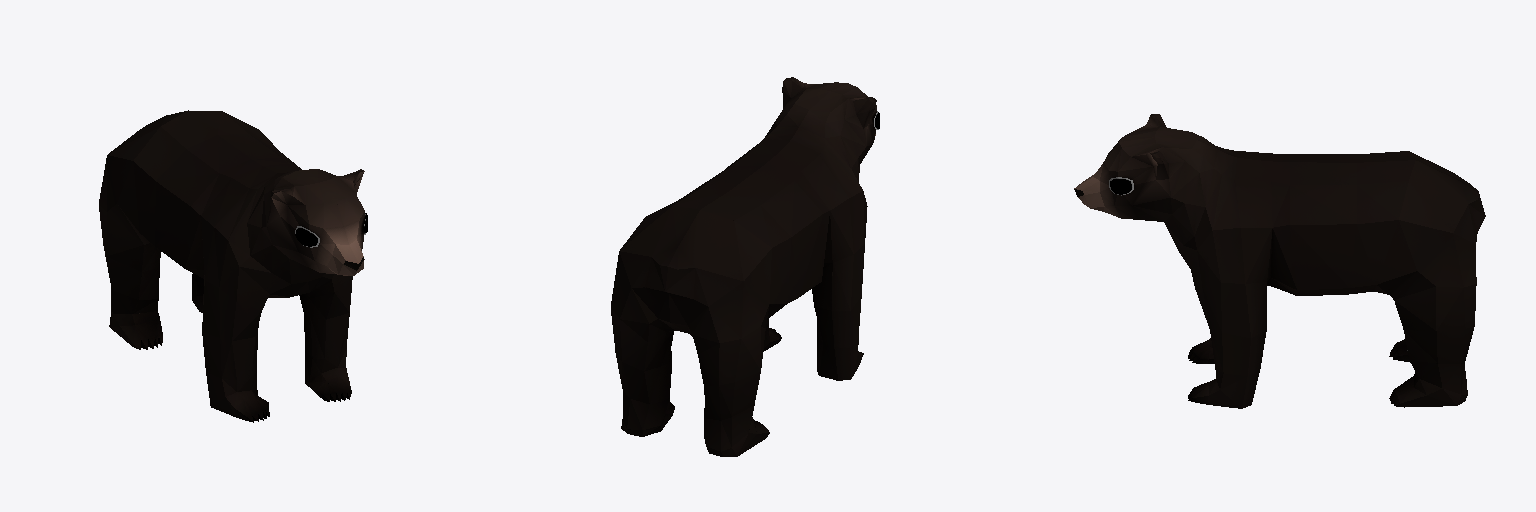
3 renders of one model, left to right at view 1: azimuth 30°, elevation 25°; view 2: azimuth 150°, elevation 25°; view 3: azimuth 270°, elevation 25°, orthographic.
Parts seen in each view (by area): view 1: alt577.001_Mesh.002; view 2: alt577.001_Mesh.002; view 3: alt577.001_Mesh.002.
Part boxes in pixels (left/top/right/bottom): alt577.001_Mesh.002: left=99, top=110, right=367, bottom=422; alt577.001_Mesh.002: left=611, top=77, right=879, bottom=456; alt577.001_Mesh.002: left=1074, top=114, right=1485, bottom=408.
Size of the model in its own units: 1.16 by 1.89 by 2.9.
Materials: 1 (1 with a texture image).